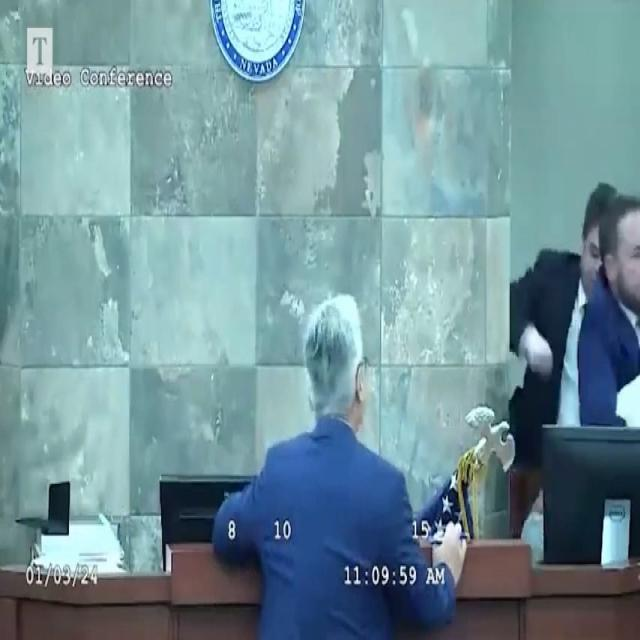fight: (505, 175, 640, 549)
non-fight: (210, 292, 466, 640)
